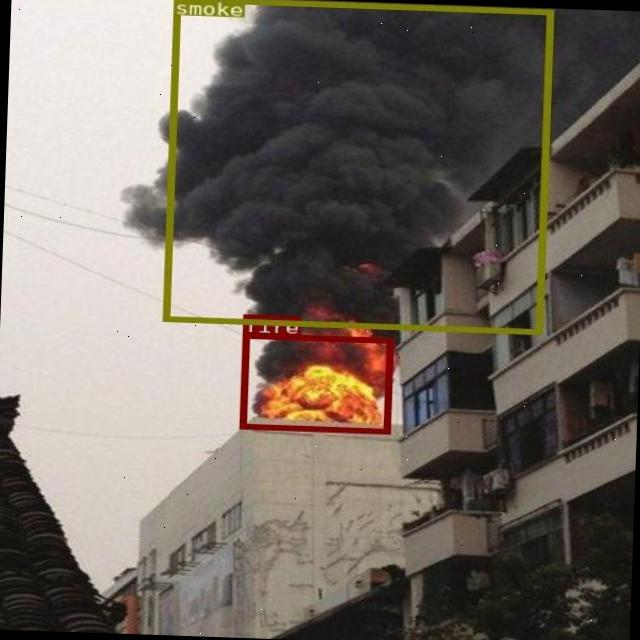fire: (238, 332, 392, 432)
smoke: (162, 0, 551, 332)
